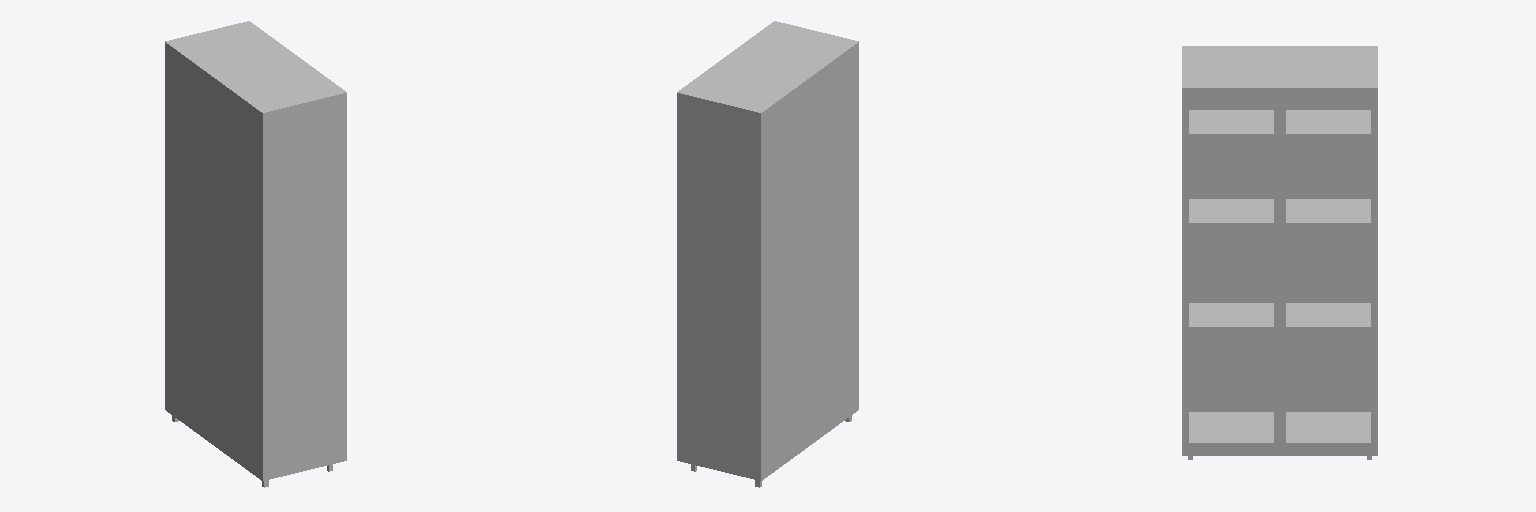
The model's file is FridgeV2.obj.
3 views of the same model, side by side, from view 1: azimuth 30°, elevation 25°; view 2: azimuth 150°, elevation 25°; view 3: azimuth 270°, elevation 25° (orthographic).
Parts seen in each view (by area): view 1: Cube; view 2: Cube; view 3: Cube.
Boxes of the visible parts, x1=… form: Cube: x1=165, y1=21, x2=346, y2=487; Cube: x1=677, y1=21, x2=858, y2=487; Cube: x1=1182, y1=46, x2=1377, y2=459.
Size of the model in its own units: 2.12 by 9.03 by 4.24.